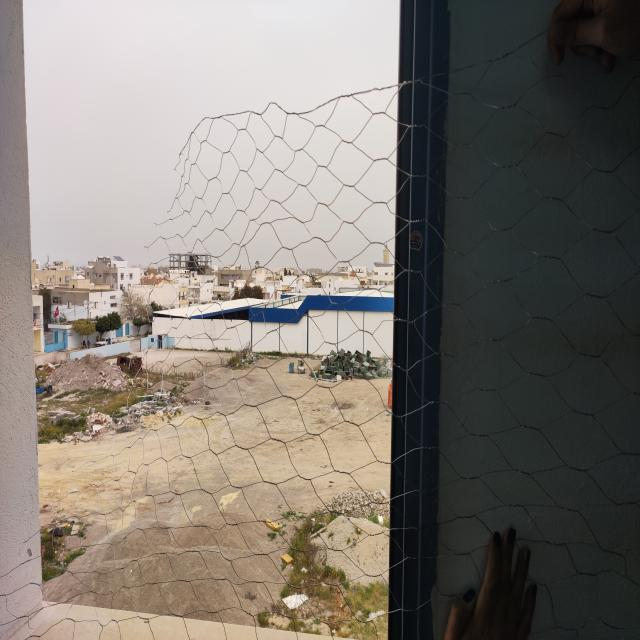fence line: (50, 126, 178, 562)
